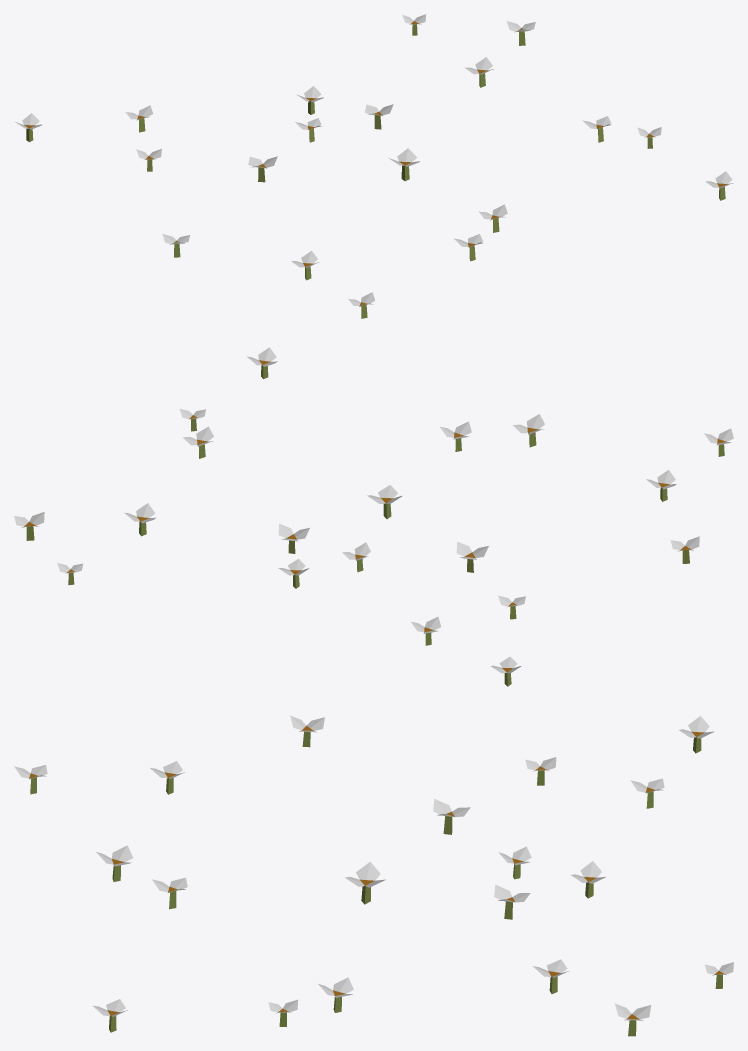
The model's file is FlowersSmall.fbx.
The picture shows the model from 3 angles, top to bottom: view 1: azimuth 30°, elevation 25°; view 2: azimuth 150°, elevation 25°; view 3: azimuth 270°, elevation 25°; orthographic projection. The views are drawn at different scales.
Visible parts, largest first — view 1: FlowersSmall; view 2: FlowersSmall; view 3: FlowersSmall.
Part boxes in pixels (x1,y1,x2,y2): FlowersSmall: (15,14,733,318); FlowersSmall: (14,347,733,686); FlowersSmall: (14,715,733,1036).
Bounding box in the file's own units: 348 × 16.72 × 347.
